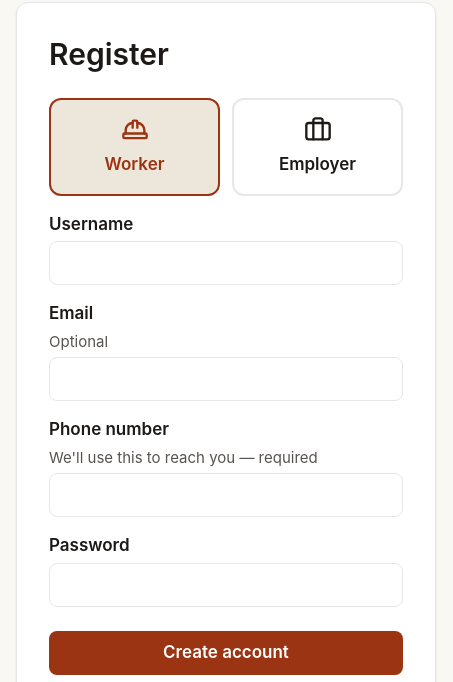
Scenario: Register › shows a minimum-length error for a too-short (but non-empty) password
The width and height of the screenshot is (453, 682).
Type "short" into the password field labelled "Password" at (226, 584), box [49, 562, 403, 606]
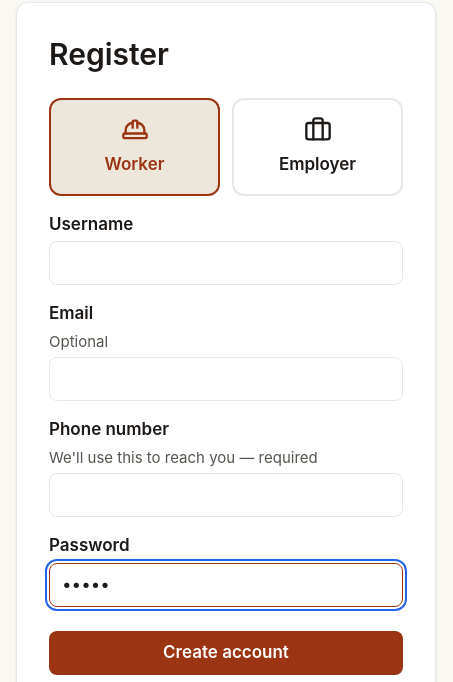
Click the button "Create account" at (226, 652), box [49, 630, 403, 674]
(page scrolled)
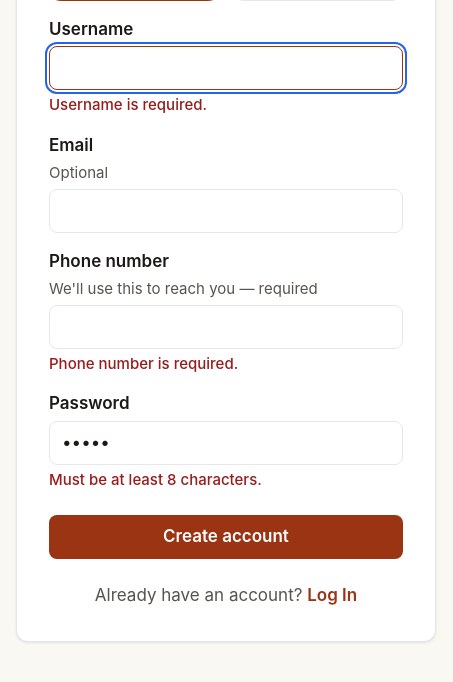
Expected: the text "Must be at least 8 characters." is shown, [49, 470, 262, 488]
